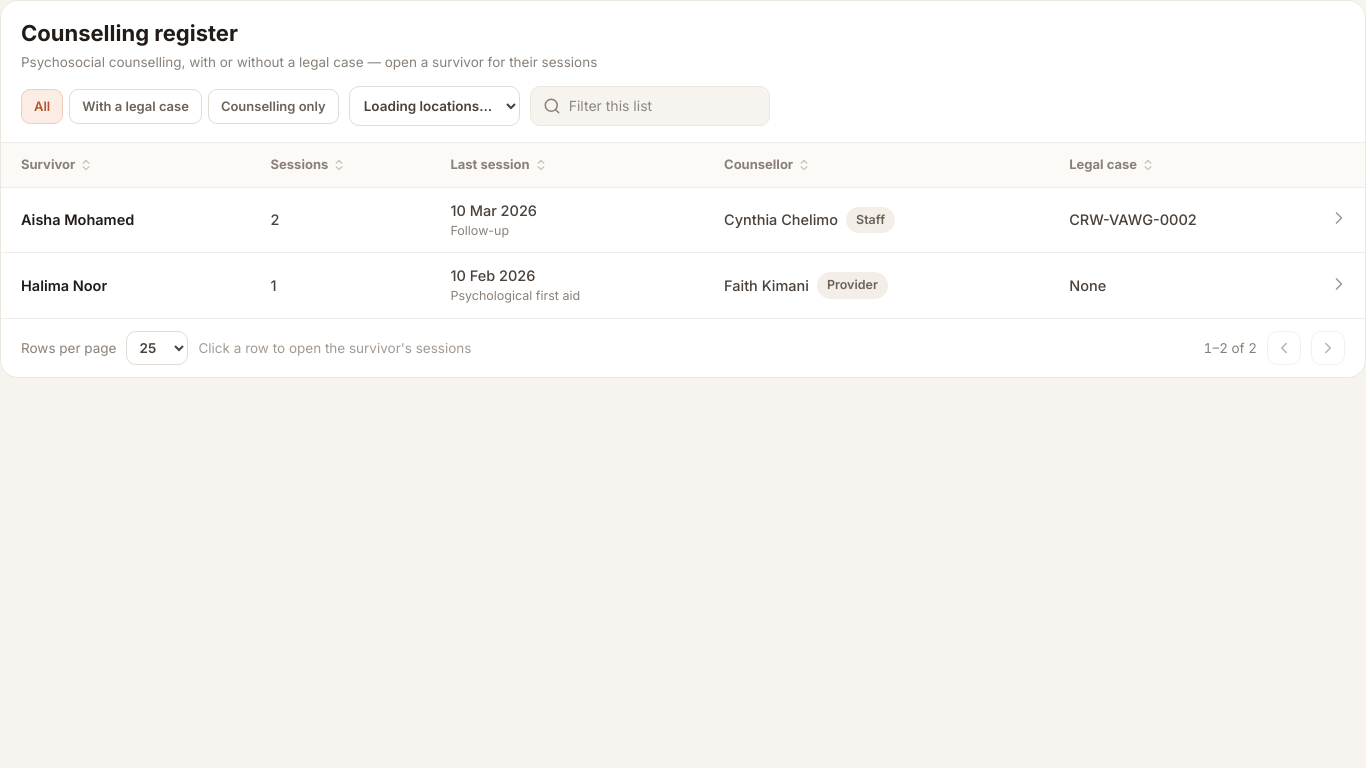
survivor drawer › says the sessions are loading before they arrive
The width and height of the screenshot is (1366, 768).
What coordinates should you click on to do the following:
click the button named "Open counselling for Aisha Mohamed"
I would click on:
 (1339, 218)
Its box is x1=1327 y1=206 x2=1351 y2=230.
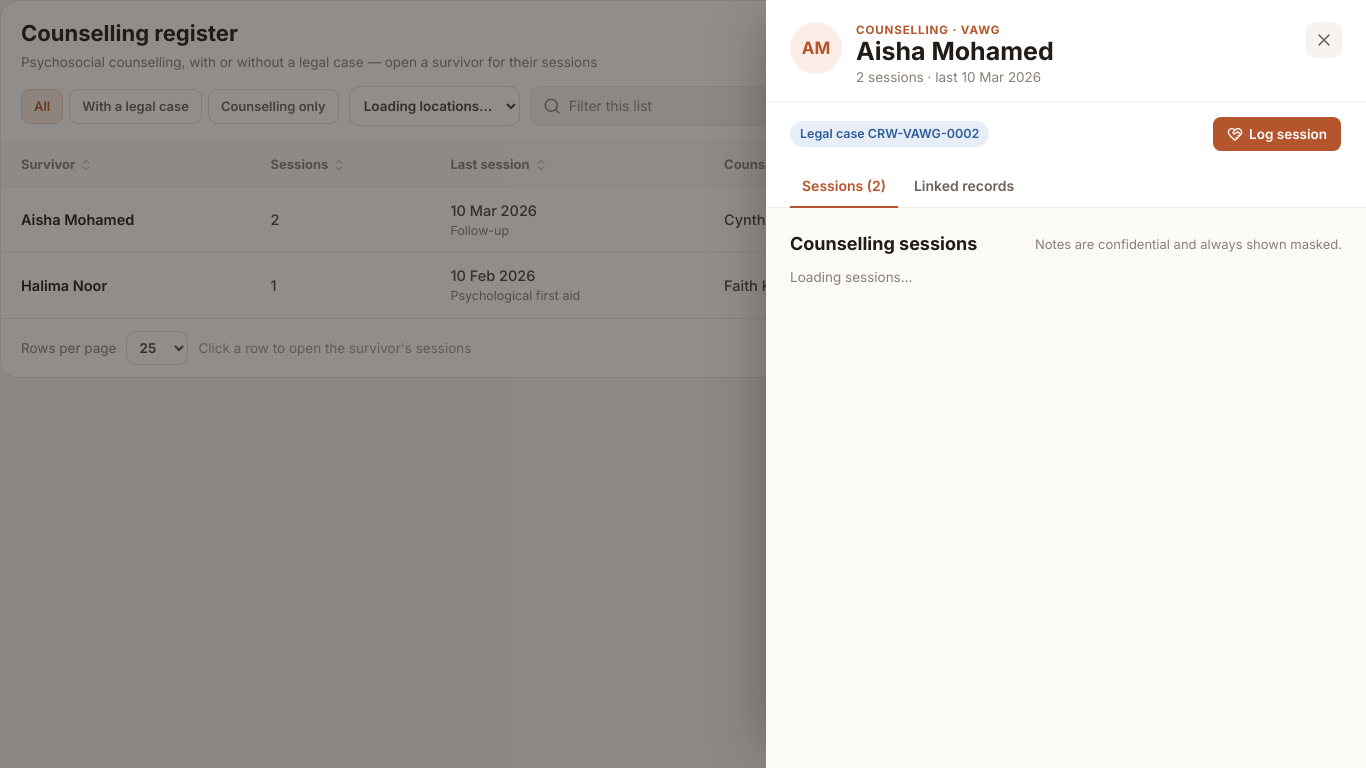
Result: the dialog shows "Loading sessions…" at x1=790 y1=269 x2=912 y2=285
